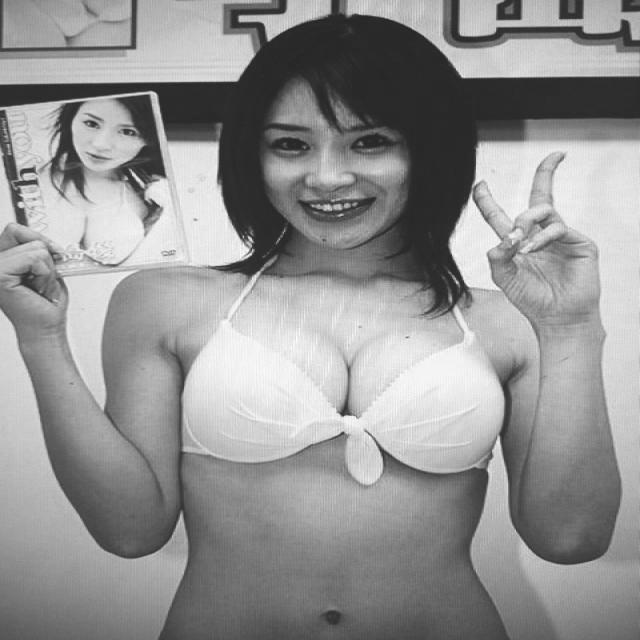fake: (51, 90, 157, 186)
real: (214, 19, 480, 259)
